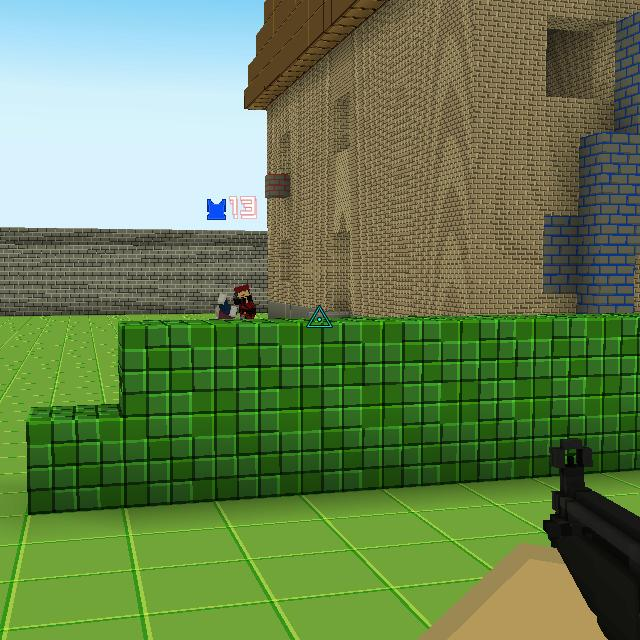enemy: (231, 281, 255, 320)
